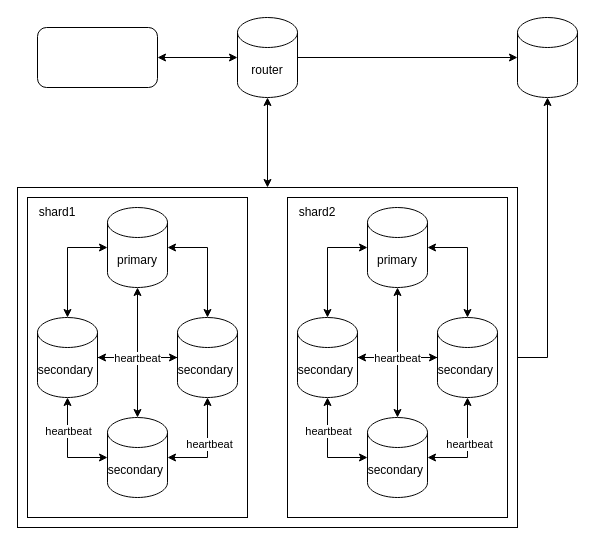
The diagram is 595 pixels wide and 545 high, and some of its shapes have lost their labels. The shapes that lost their labels are listed below. From the top down, each one's centre as x and y in pixels, then its label:
point 97,57: pymongo-api
point 547,57: configSrv
